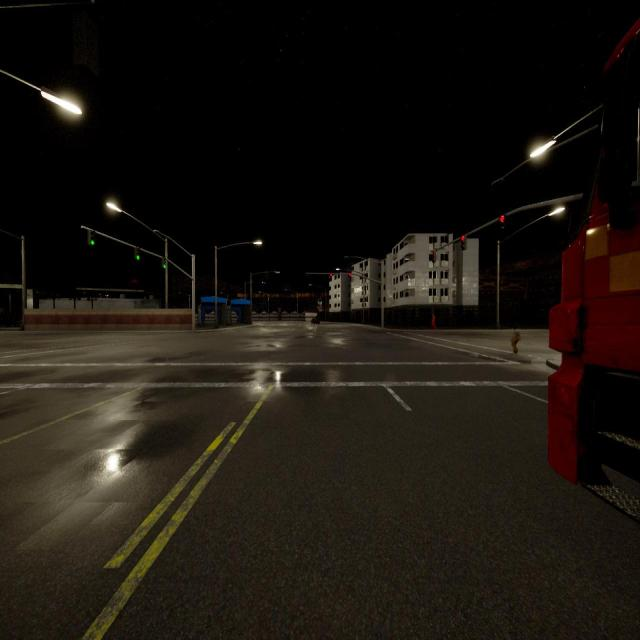Pedestrian: (511, 326, 521, 353), (432, 312, 436, 330)
Vehicle: (550, 20, 640, 516), (312, 318, 320, 324)
traffic_light: (88, 231, 95, 245), (461, 236, 466, 250), (432, 250, 436, 262), (500, 216, 504, 228), (135, 248, 139, 260), (162, 260, 166, 268), (349, 273, 352, 276), (330, 274, 332, 276)
